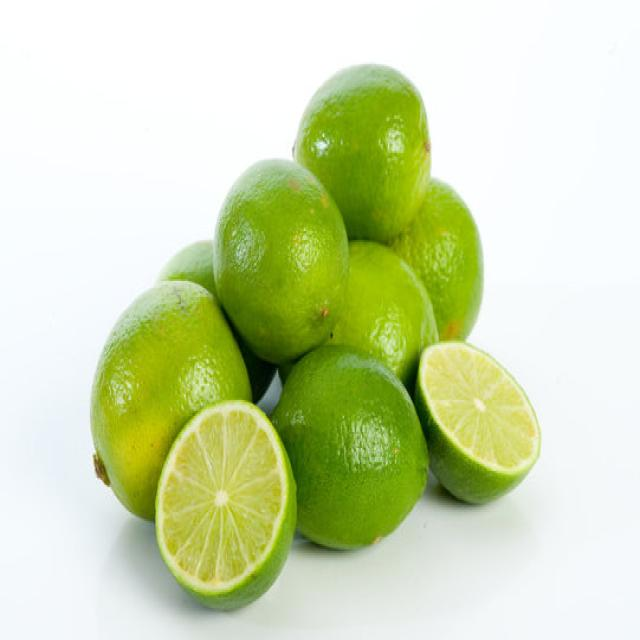Lemon: (89, 277, 252, 521), (269, 342, 428, 550), (154, 398, 297, 612), (212, 156, 349, 362), (291, 60, 431, 242), (156, 238, 282, 412), (415, 338, 541, 505), (323, 238, 439, 388), (390, 176, 484, 341)
